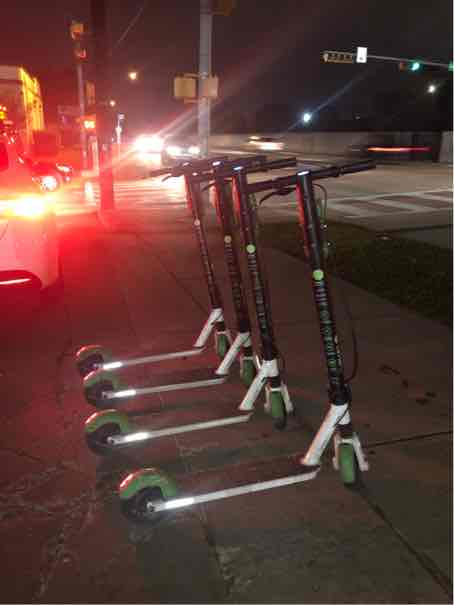too close: (54, 404, 171, 469), (40, 314, 126, 389)
